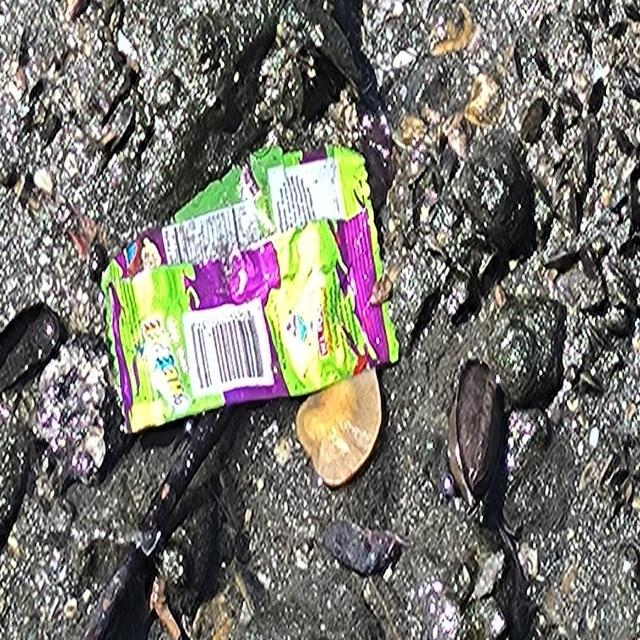plastic_waste: (102, 143, 402, 431)
